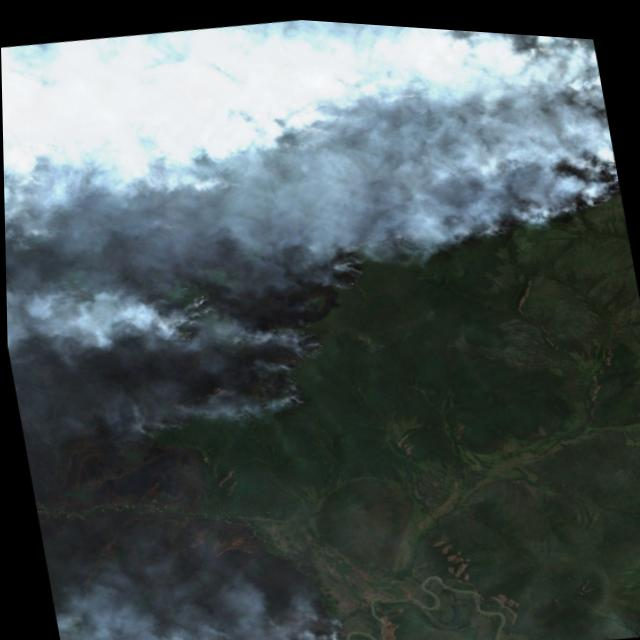fire: (471, 149, 625, 235), (262, 354, 320, 419), (324, 231, 381, 295), (177, 285, 223, 325), (295, 320, 333, 361), (311, 604, 354, 640)
